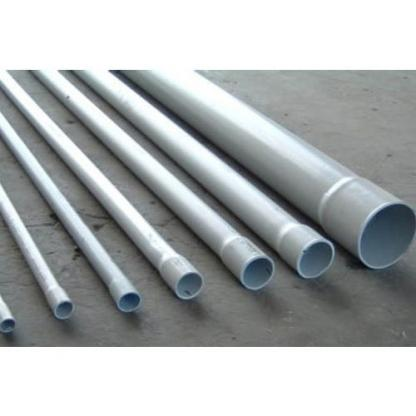PVC: (120, 71, 415, 269), (72, 71, 335, 279), (32, 71, 274, 291), (0, 71, 204, 299), (0, 112, 143, 311), (1, 182, 76, 321), (0, 296, 16, 334)
